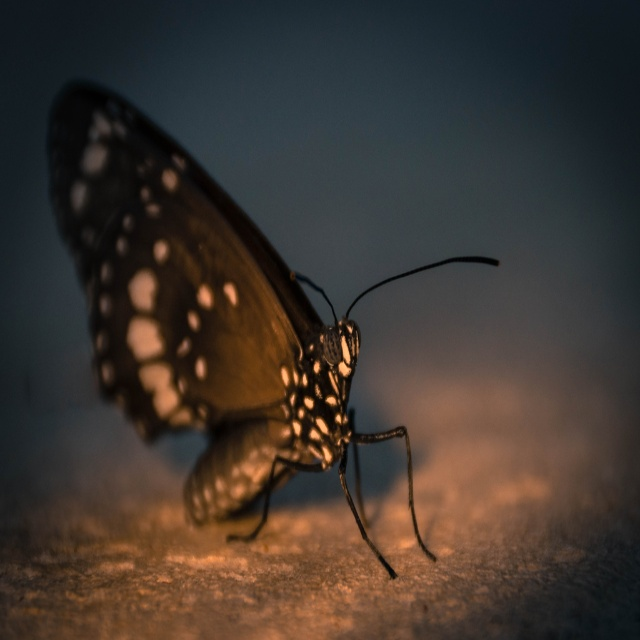Butterfly: (67, 69, 498, 608)
